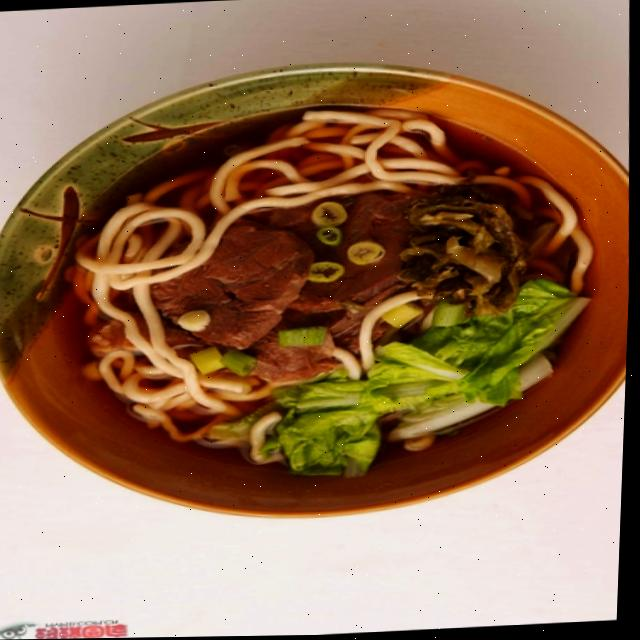面条主食: (0, 10, 640, 563)
